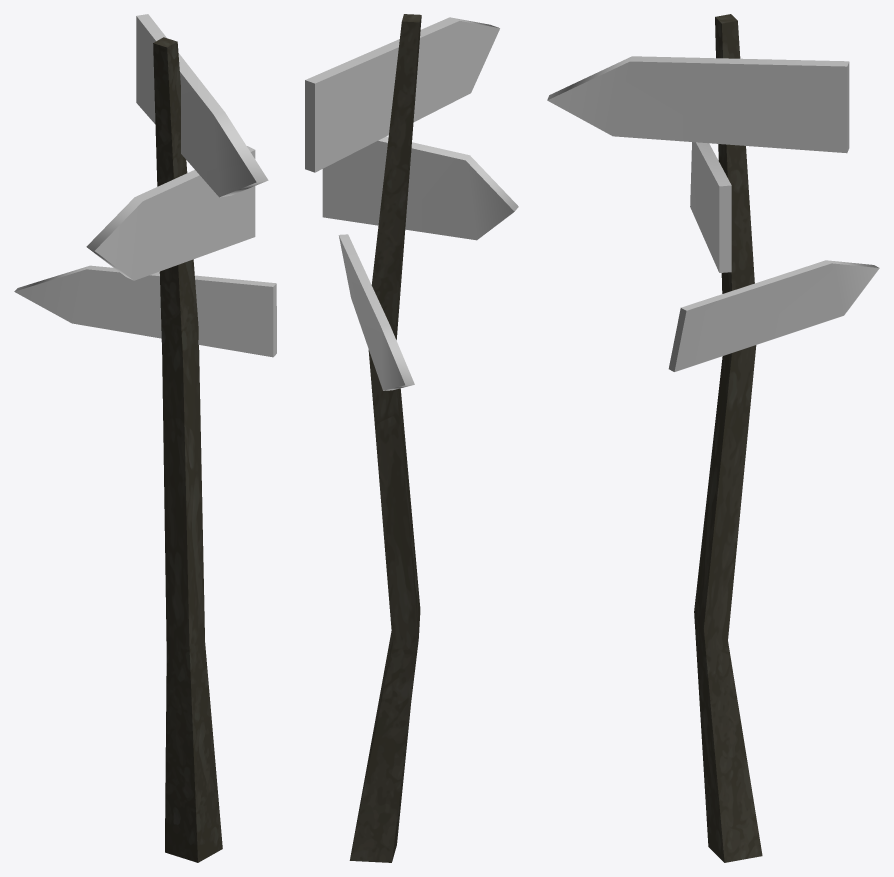
Rendered from Sign_Post_Colider.fbx.
3 views of the same model, side by side, from view 1: azimuth 30°, elevation 25°; view 2: azimuth 150°, elevation 25°; view 3: azimuth 270°, elevation 25° (orthographic). The views are drawn at different scales.
Visible parts, largest first — view 1: _Sign_Post_Colider; view 2: _Sign_Post_Colider; view 3: _Sign_Post_Colider.
Part boxes in pixels (box(x1,y1,x2,y2)): _Sign_Post_Colider: box(14, 14, 276, 862); _Sign_Post_Colider: box(305, 14, 518, 862); _Sign_Post_Colider: box(547, 14, 879, 862).
Size of the model in its own units: 55.41 by 240 by 88.45.
